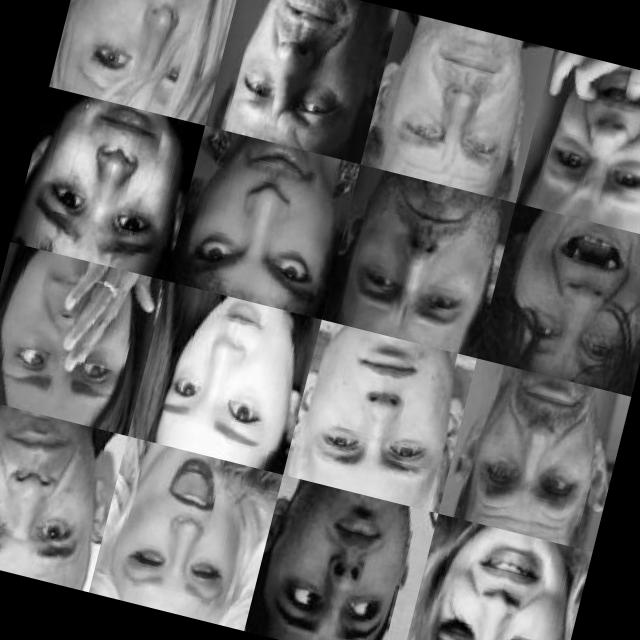angry: (352, 178, 508, 338), (185, 147, 338, 304)
fear: (75, 0, 223, 98)
happy: (110, 452, 256, 606), (499, 230, 640, 374)
neutral: (146, 289, 313, 465), (304, 332, 472, 496), (380, 28, 534, 184), (226, 0, 381, 153), (266, 488, 421, 640), (463, 372, 609, 528), (0, 402, 116, 582)
sad: (29, 98, 195, 269), (0, 254, 148, 408), (419, 526, 578, 640), (538, 65, 640, 220)
